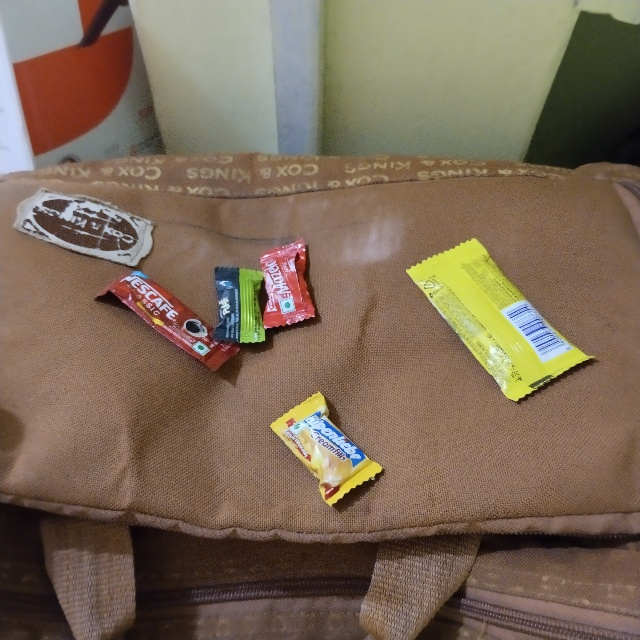Alpenlibe Creamfills: (313, 384, 429, 450)
Mazelo: (257, 248, 316, 321)
Nescafe Coffee: (124, 260, 259, 306)
Orbit: (401, 276, 483, 459)
Pulse: (213, 267, 267, 342)
